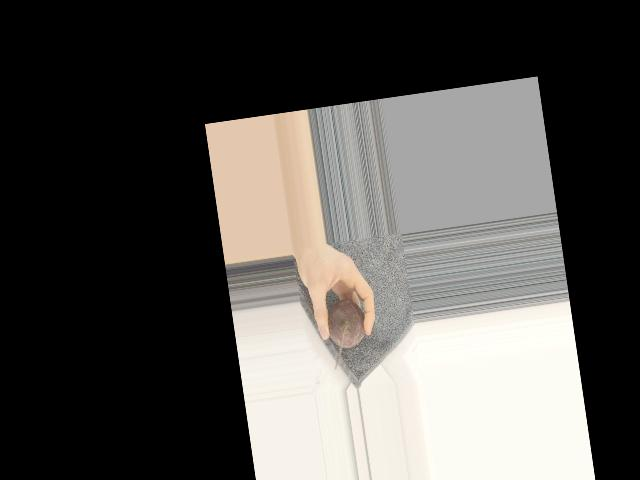beet: (324, 297, 371, 370)
